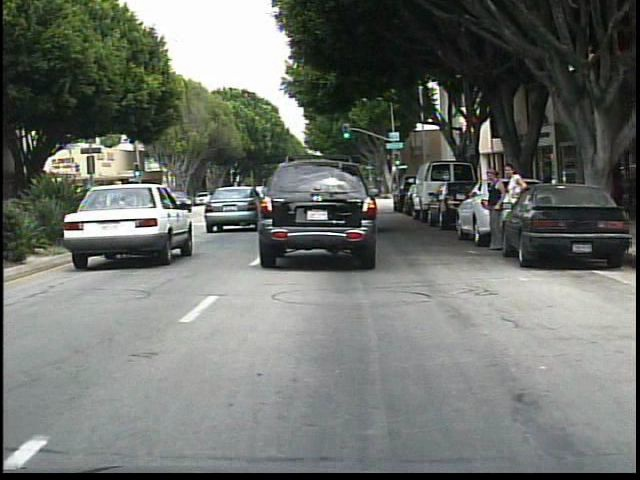person: (501, 158, 531, 250), (481, 168, 507, 258)
